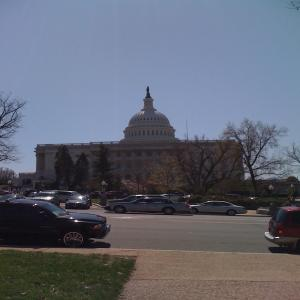Vehicle-registration-plate: (269, 230, 275, 235)
